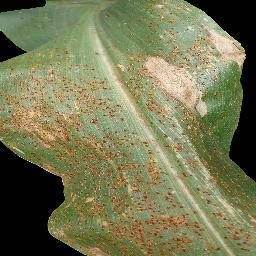Corn_Common_Rust: (0, 62, 256, 256), (132, 0, 247, 61), (7, 42, 103, 62), (109, 42, 133, 62), (100, 10, 115, 22)
